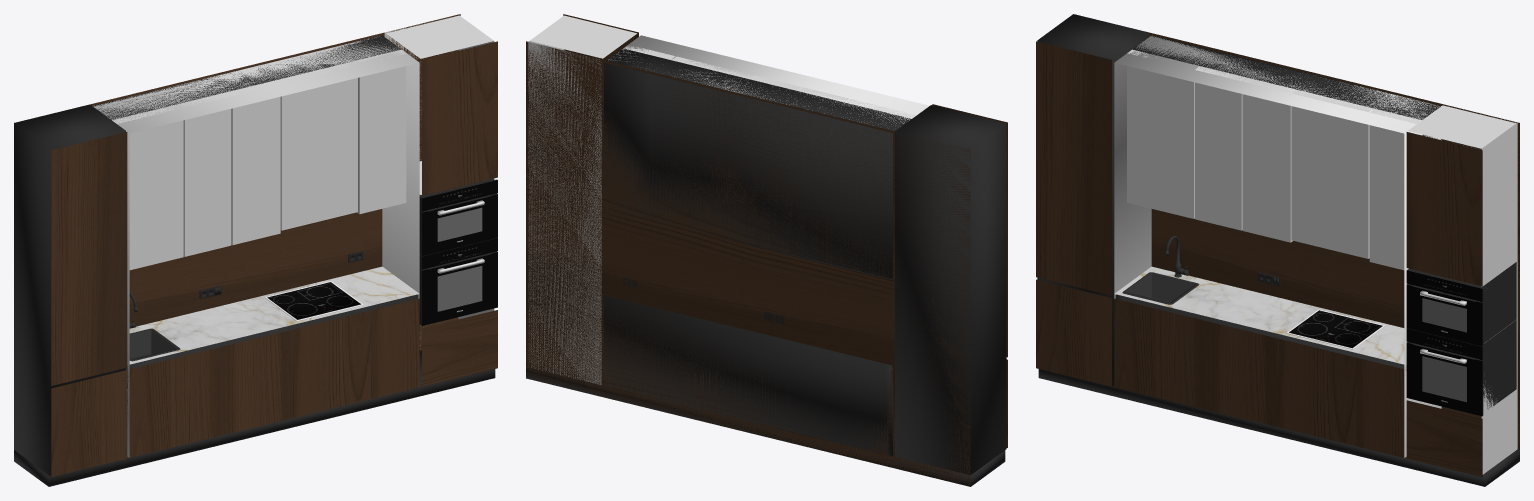
The model's file is SetCocina.fbx.
3 views of the same model, side by side, from view 1: azimuth 30°, elevation 25°; view 2: azimuth 150°, elevation 25°; view 3: azimuth 330°, elevation 25° (orthographic).
Visible parts, largest first — view 1: Plane.038; view 2: Plane.038; view 3: Plane.038.
Boxes of the visible parts, x1,y1,x2,y2 form: Plane.038: (14, 14, 497, 486); Plane.038: (526, 14, 1007, 486); Plane.038: (1036, 14, 1519, 486).
Size of the model in its own units: 400 by 290 by 61.43.
Materials: 15 (4 with a texture image).
